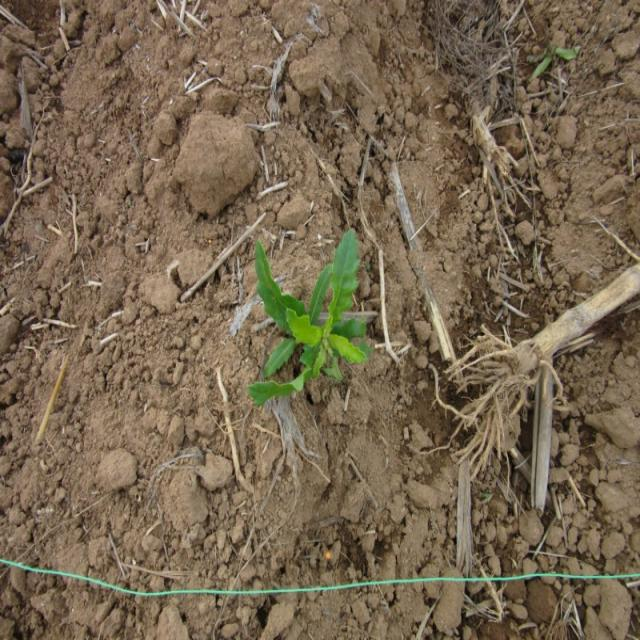cs: (250, 228, 373, 411)
